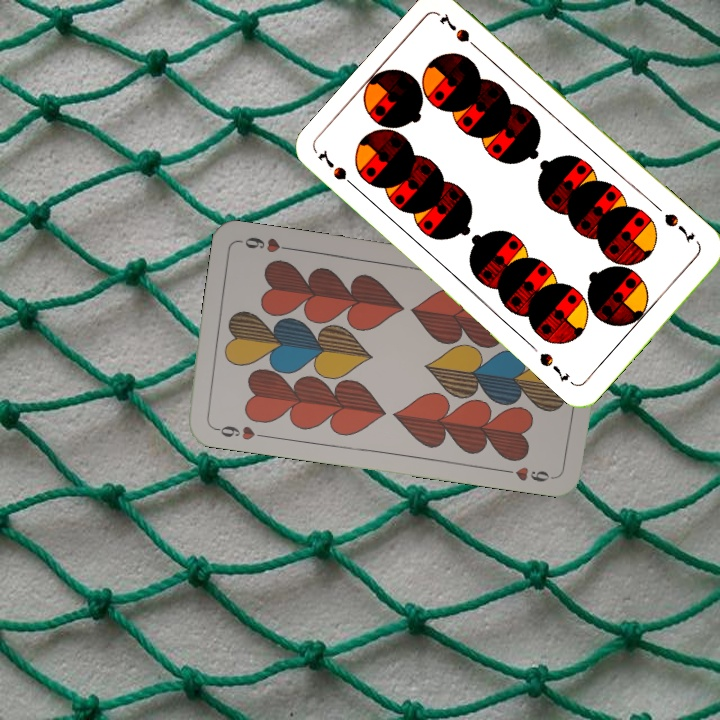H9: (209, 421, 268, 443)
S7: (314, 146, 362, 193), (660, 209, 697, 245)
